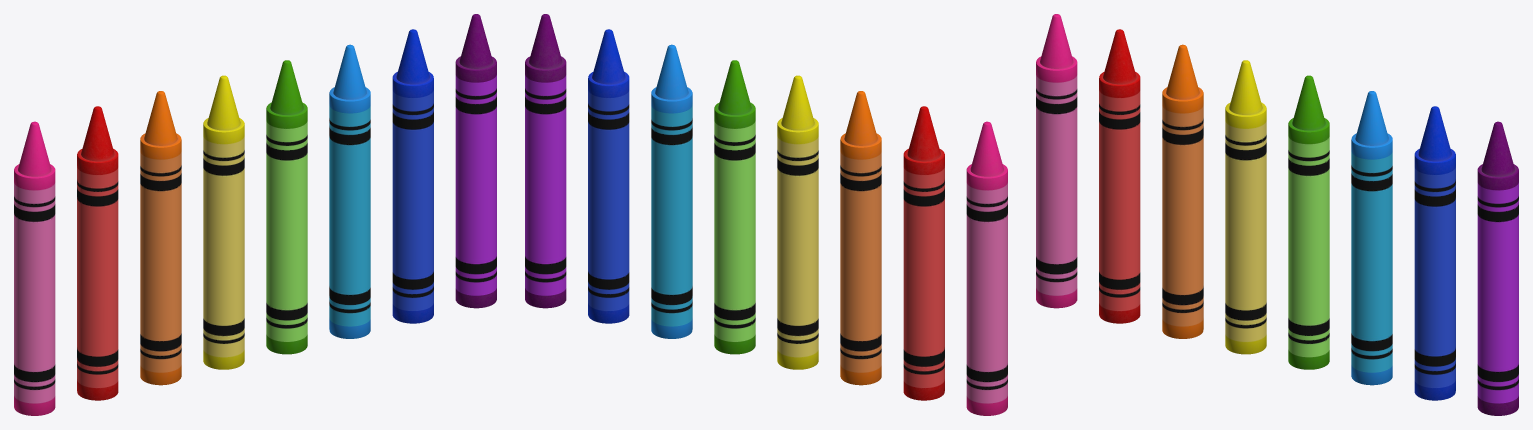
File: Crayons.glb
3 renders of one model, left to right at view 1: azimuth 30°, elevation 25°; view 2: azimuth 150°, elevation 25°; view 3: azimuth 330°, elevation 25°, orthographic.
Parts seen in each view (by area): view 1: Cylinder; view 2: Cylinder; view 3: Cylinder.
Part boxes in pixels (bbox=[...]): Cylinder: bbox=[14, 14, 496, 415]; Cylinder: bbox=[525, 14, 1007, 415]; Cylinder: bbox=[1036, 14, 1518, 415].
Size of the model in its own units: 425 by 242 by 31.94.
1 material, 1 textured.
